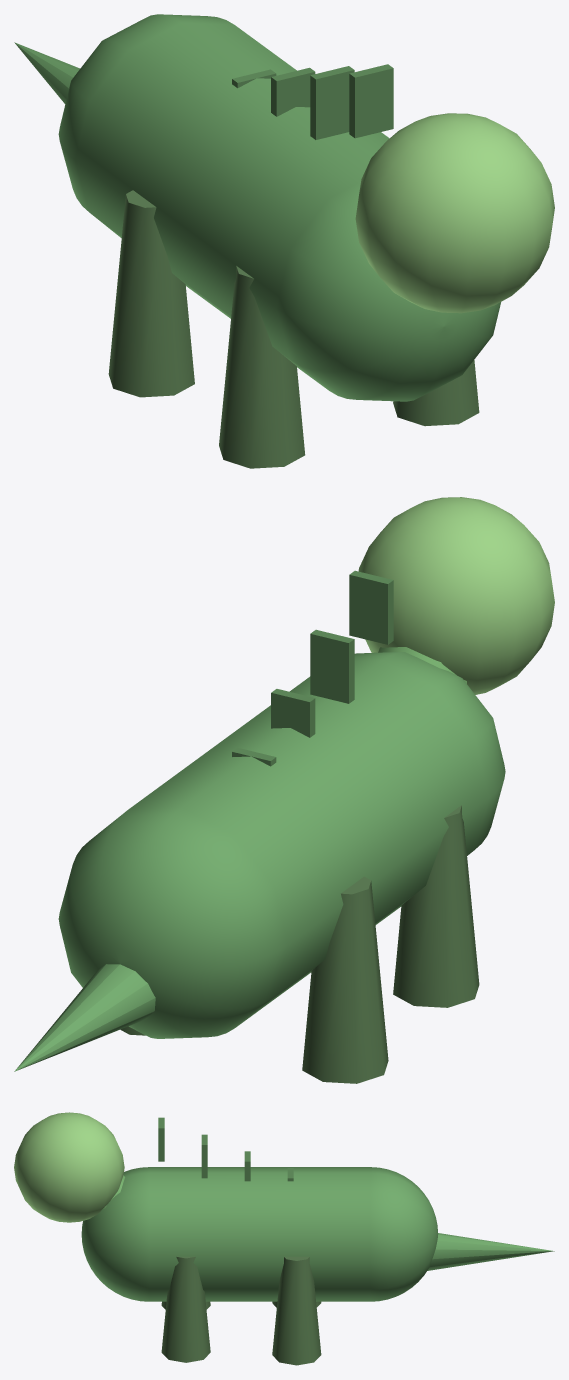
File: dino.glb
3 renders of one model, top to bottom at view 1: azimuth 30°, elevation 25°; view 2: azimuth 150°, elevation 25°; view 3: azimuth 270°, elevation 25°, orthographic. The views are drawn at different scales.
Size of the model in its own units: 1.4 by 1.9 by 4.4.
